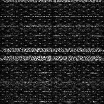lte: (1, 55, 104, 61), (1, 47, 104, 52), (1, 1, 104, 2)
